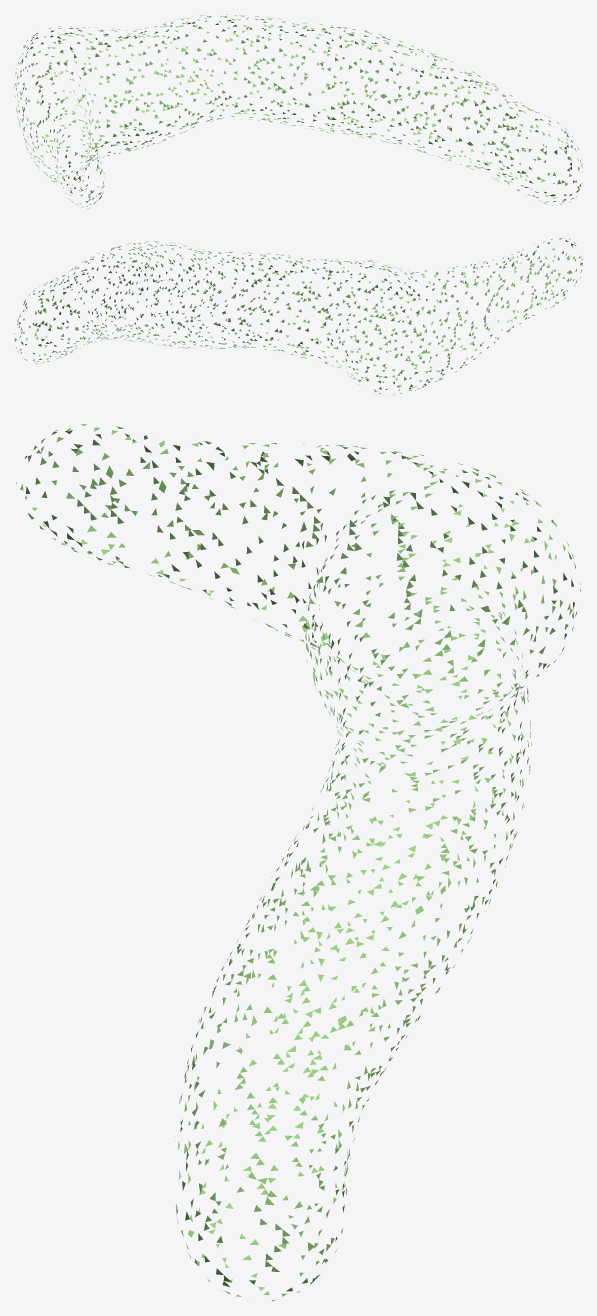
The model's file is morph_014.glb.
3 renders of one model, top to bottom at view 1: azimuth 30°, elevation 25°; view 2: azimuth 150°, elevation 25°; view 3: azimuth 270°, elevation 25°, orthographic. The views are drawn at different scales.
Bounding box in the file's own units: 99.97 × 41 × 48.24.
